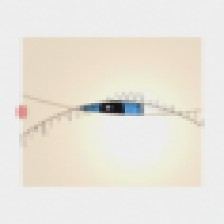pinguecula_lesion: (132, 97, 183, 138)
